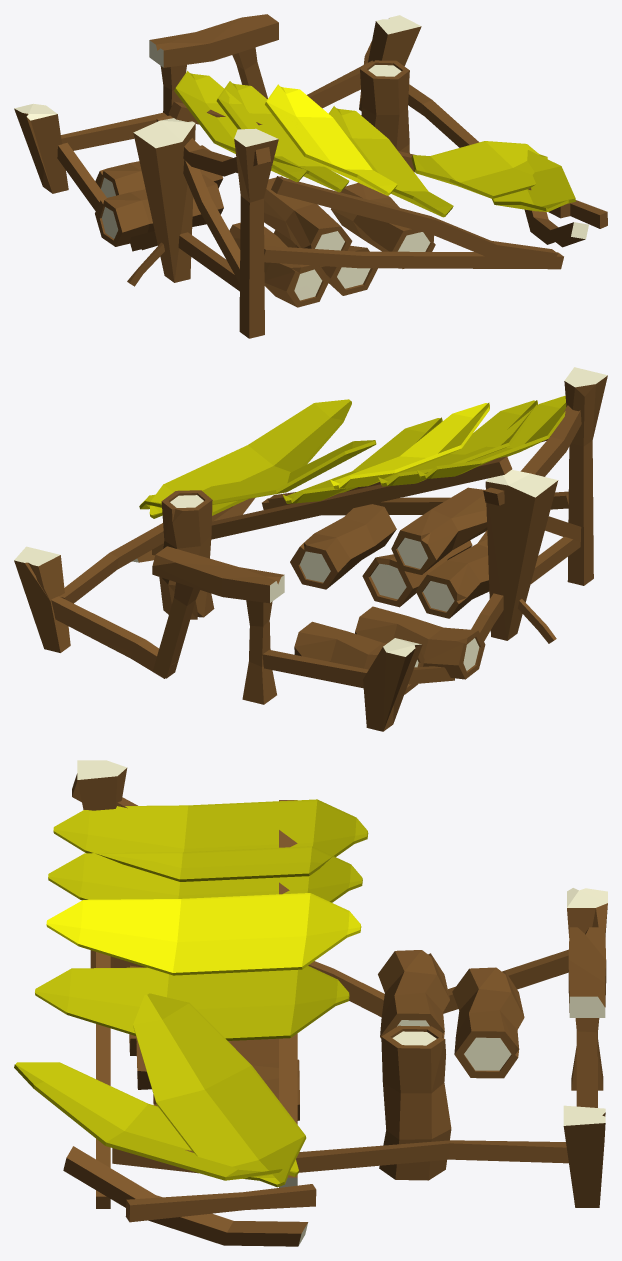
File: RESERVE BOIS 3.fbx
3 views of the same model, one above another, from view 1: azimuth 30°, elevation 25°; view 2: azimuth 150°, elevation 25°; view 3: azimuth 270°, elevation 25° (orthographic). The views are drawn at different scales.
Visible parts, largest first — view 1: Cube.018; view 2: Cube.018; view 3: Cube.018.
Part boxes in pixels (x1,y1,x2,y2): Cube.018: (14,14,607,338); Cube.018: (14,367,607,731); Cube.018: (14,760,607,1246).
Size of the model in its own units: 600 by 300 by 600.
